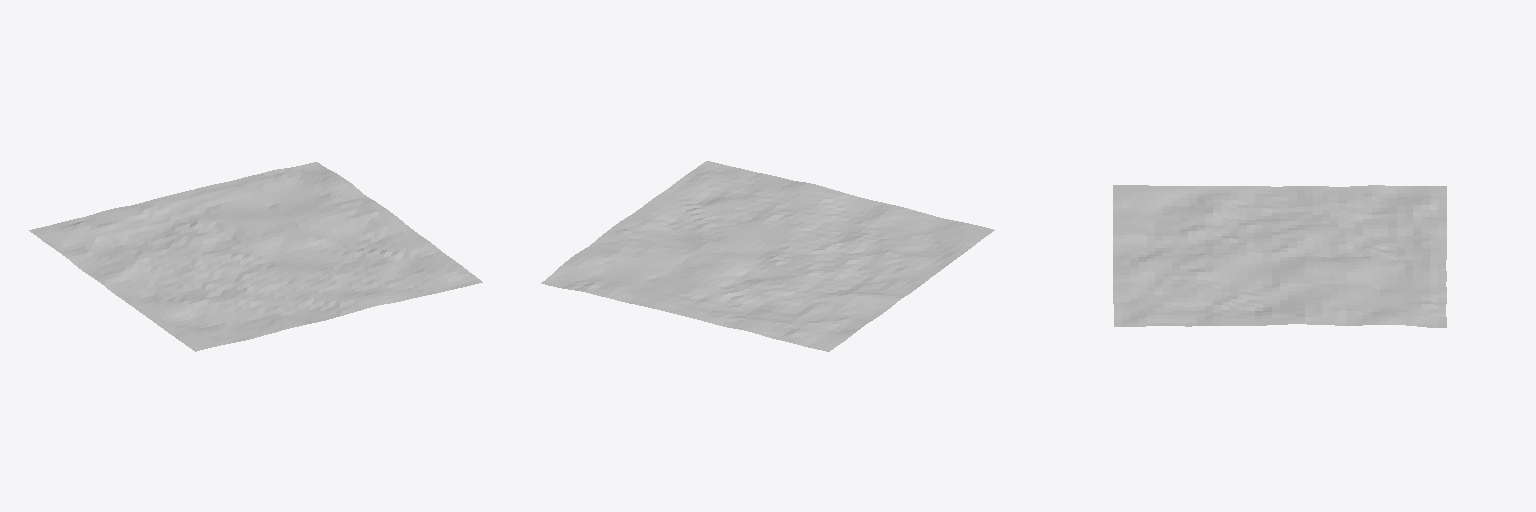
The model's file is Water.obj.
3 renders of one model, left to right at view 1: azimuth 30°, elevation 25°; view 2: azimuth 150°, elevation 25°; view 3: azimuth 270°, elevation 25°, orthographic.
Parts seen in each view (by area): view 1: pCube2; view 2: pCube2; view 3: pCube2.
Part boxes in pixels (left/top/right/bottom): pCube2: left=29, top=162, right=482, bottom=351; pCube2: left=541, top=161, right=994, bottom=351; pCube2: left=1113, top=185, right=1446, bottom=327.
Size of the model in its own units: 23.72 by 0.4376 by 23.72.